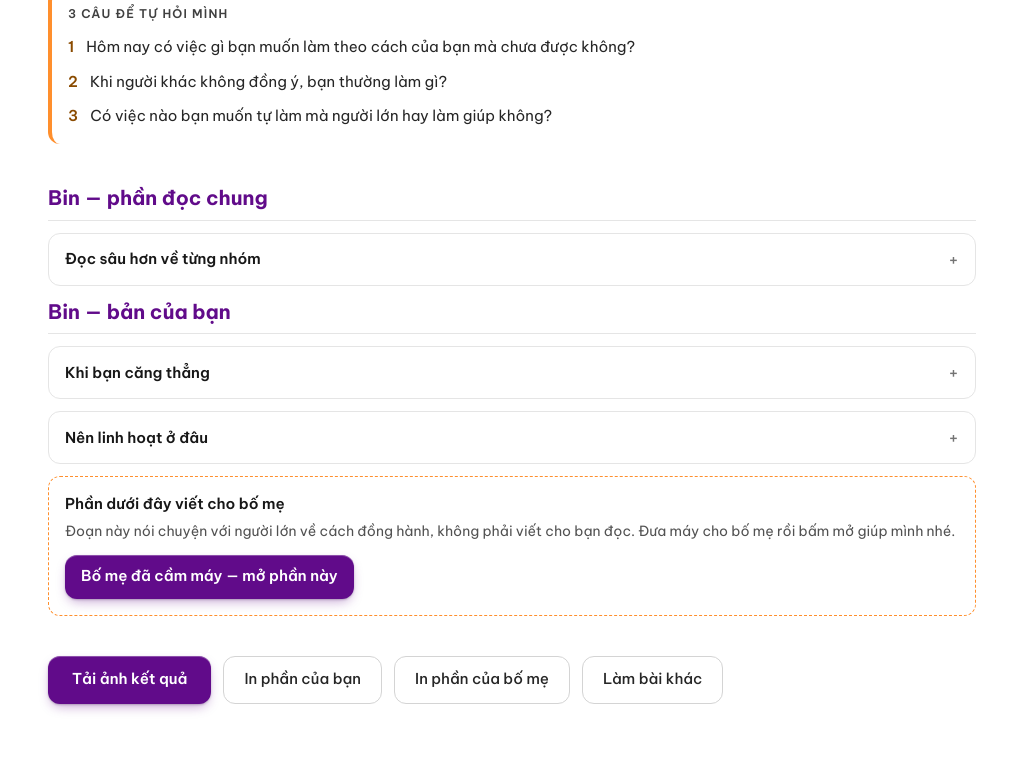
Test: 🔴 dải chắn — chỉ dựng khi chính đứa trẻ đang cầm máy › bấm qua dải chắn thì phần của bố mẹ mở ra
The width and height of the screenshot is (1024, 766).
(page scrolled)
What coordinates should you click on to do the following:
click the button "Bố mẹ đã cầm máy — mở phần này"
I would click on:
 (209, 577)
Its box is [65, 555, 354, 599].
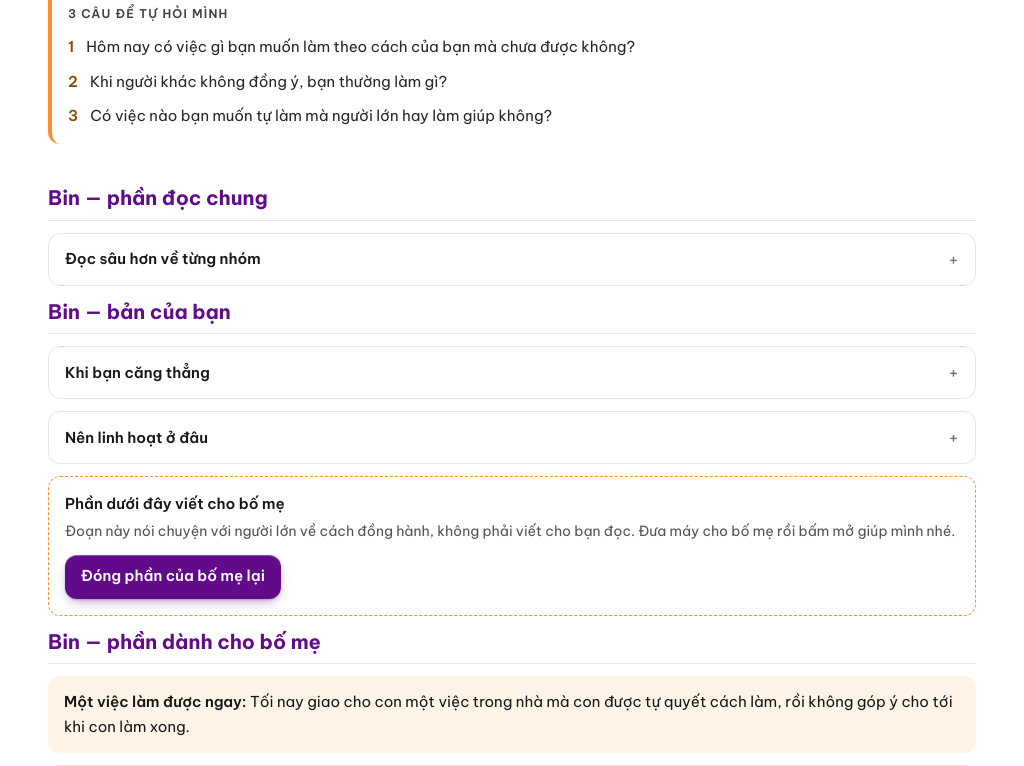
Now the button "Đóng phần của bố mẹ lại" is shown, box [65, 555, 281, 599]
